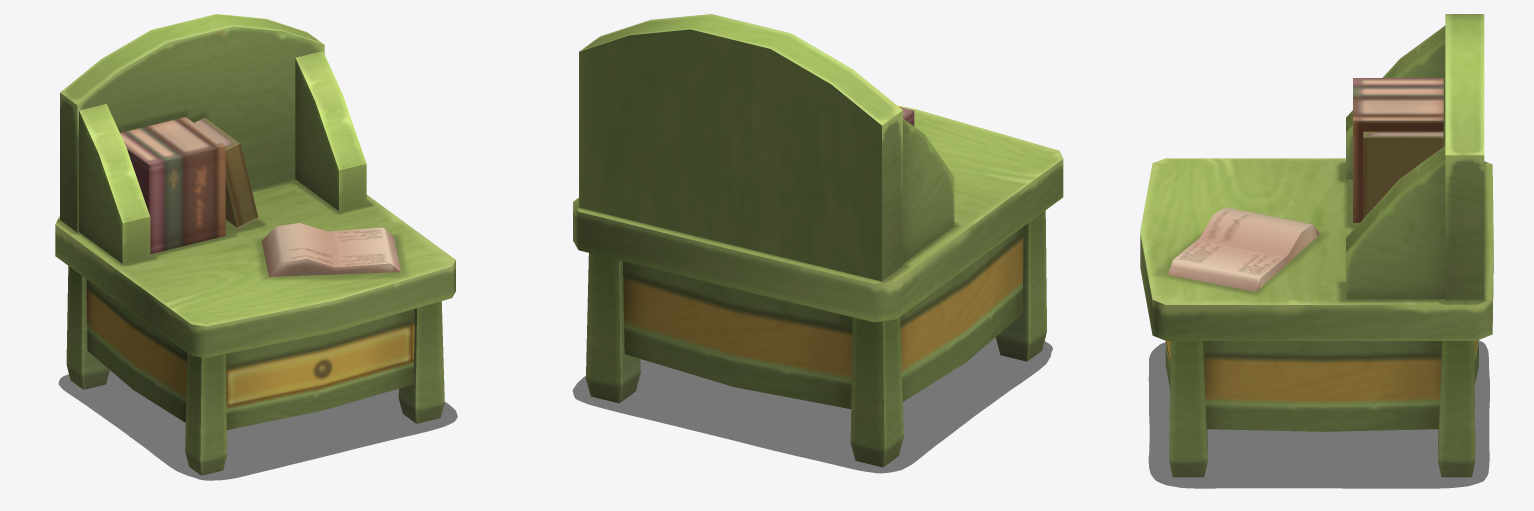
The model's file is FT_Green_Desk01.FBX.
The picture shows the model from 3 angles, left to right: view 1: azimuth 30°, elevation 25°; view 2: azimuth 150°, elevation 25°; view 3: azimuth 270°, elevation 25°; orthographic projection. The views are drawn at different scales.
Parts seen in each view (by area): view 1: FT_Green_Desk01, FT_Green_Desk01_shadow01; view 2: FT_Green_Desk01, FT_Green_Desk01_shadow01; view 3: FT_Green_Desk01, FT_Green_Desk01_shadow01.
Part boxes in pixels (x1=…): FT_Green_Desk01: x1=55, y1=14, x2=455, y2=475; FT_Green_Desk01_shadow01: x1=58, y1=370, x2=457, y2=480; FT_Green_Desk01: x1=573, y1=14, x2=1063, y2=467; FT_Green_Desk01_shadow01: x1=572, y1=337, x2=1052, y2=473; FT_Green_Desk01: x1=1140, y1=14, x2=1493, y2=477; FT_Green_Desk01_shadow01: x1=1148, y1=340, x2=1489, y2=488.
Size of the model in its own units: 1.11 by 1.12 by 1.05.
Materials: 2 (2 with a texture image).
